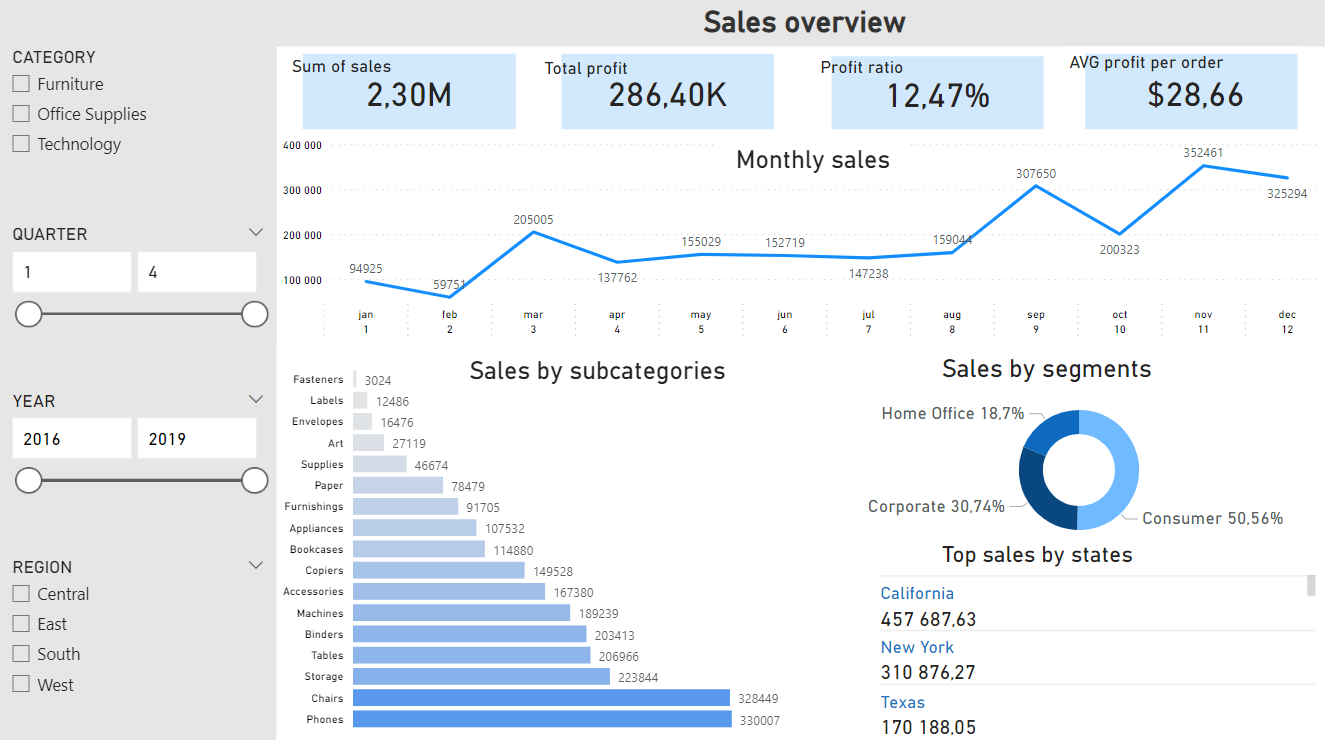

The page's visual inventory and layout, read from the dashboard file:
{"tool":"powerbi","page":{"name":"Sales overview","canvas":[1280,720],"ordinal":0},"visuals":[{"type":"card","fields":{"Values":["Sum(public sales_fact.profit)"]},"box":[543.3,57.2,204.6,73.1],"z":0,"group":"g2"},{"type":"card","fields":{"Values":["public sales_fact.avg_profit"]},"box":[1048.8,57.2,204.6,73.1],"z":0,"group":"g3"},{"type":"card","fields":{"Values":["Sum(public sales_fact.sales)"]},"box":[292.4,57.3,205.9,73.1],"z":0,"group":"g1"},{"type":"card","fields":{"Values":["public sales_fact.profit_ratio2"]},"box":[802.7,59.7,204.6,70.7],"z":0,"group":"g4"},{"type":"lineChart","fields":{"Y":["Sum(public sales_fact.sales)"],"Category":["public dim_date.month_","public dim_date.month_name"]},"box":[269.2,130.3,1011,210.7],"z":0,"group":"g5"},{"type":"clusteredBarChart","fields":{"Category":["public dim_products.subcategory"],"Y":["Sum(public sales_fact.sales)"]},"box":[268,341.1,506.7,378.8],"z":0,"group":"g6"},{"type":"slicer","fields":{"Values":["public dim_date.year_"]},"box":[0,376.3,267.7,160.4],"z":0},{"type":"multiRowCard","fields":{"Values":["public dim_geo.state","Sum(public sales_fact.sales)"]},"box":[845.4,555.5,430,164.4],"z":0,"group":"g7"},{"type":"textbox","box":[1028.1,50,188.8,34.1],"z":1000,"group":"g3"},{"type":"textbox","box":[277,53.3,116.9,36.5],"z":1000,"group":"g1"},{"type":"textbox","box":[787,54.8,115.7,32.9],"z":1000,"group":"g4"},{"type":"textbox","box":[521.5,56,115.7,34.1],"z":1000,"group":"g2"},{"type":"textbox","box":[691.6,139.5,188.8,45.9],"z":1000,"group":"g5"},{"type":"slicer","fields":{"Values":["public dim_date.quarter_"]},"box":[0,215.9,267.7,160.4],"z":1000},{"type":"textbox","box":[449.4,343.4,280.4,39],"z":1000,"group":"g6"},{"type":"textbox","box":[904.6,522.5,265.6,37.8],"z":1000,"group":"g7"},{"type":"textbox","box":[905.1,341.1,265.6,39],"z":2000},{"type":"textbox","box":[0,0,1279,49.9],"z":3000},{"type":"group","id":"g1","title":"Группа 1","box":[277,53.3,221.2,77],"z":4000},{"type":"slicer","fields":{"Values":["public dim_products.category"]},"box":[0,44.6,267.7,171.3],"z":5000},{"type":"slicer","fields":{"Values":["public dim_geo.region"]},"box":[0,536.7,267.7,183.3],"z":6000},{"type":"group","id":"g2","title":"Группа 1","box":[521.5,56,226.4,74.3],"z":7000},{"type":"group","id":"g3","title":"Группа 1","box":[1028.1,50,225.4,80.3],"z":8000},{"type":"group","id":"g4","title":"Группа 1","box":[787,54.8,220.3,75.6],"z":9000},{"type":"group","id":"g5","title":"Группа 2","box":[269.2,130.3,1011,210.7],"z":10000},{"type":"group","id":"g6","title":"Группа 3","box":[268,341.1,506.7,378.8],"z":11000},{"type":"donutChart","fields":{"Category":["public dim_customers.segment"],"Y":["Sum(public sales_fact.sales)"]},"box":[802.7,380.1,477.5,157.1],"z":12000},{"type":"group","id":"g7","title":"Группа 4","box":[845.4,522.5,430,197.4],"z":13000}]}

Visuals, with their boxes in screenshot pixels (x1, y1, x2, y2), scaled from the page's 1280x720 canvas onto the 1325x740 screenshot:
card - Sum(public sales_fact.profit): 562 59 774 134
card - public sales_fact.avg_profit: 1086 59 1297 134
card - Sum(public sales_fact.sales): 303 59 516 134
card - public sales_fact.profit_ratio2: 831 61 1043 134
lineChart - Sum(public sales_fact.sales) x public dim_date.month_: 279 134 1324 350
clusteredBarChart - public dim_products.subcategory x Sum(public sales_fact.sales): 277 351 802 739
slicer - public dim_date.year_: 0 387 277 552
multiRowCard - public dim_geo.state x Sum(public sales_fact.sales): 875 571 1320 739
textbox: 1064 51 1260 86
textbox: 287 55 408 92
textbox: 815 56 934 90
textbox: 540 58 660 93
textbox: 716 143 911 191
slicer - public dim_date.quarter_: 0 222 277 387
textbox: 465 353 755 393
textbox: 936 537 1211 576
textbox: 937 351 1212 391
textbox: 0 0 1324 51
"Группа 1" group: 287 55 516 134
slicer - public dim_products.category: 0 46 277 222
slicer - public dim_geo.region: 0 552 277 739
"Группа 1" group: 540 58 774 134
"Группа 1" group: 1064 51 1298 134
"Группа 1" group: 815 56 1043 134
"Группа 2" group: 279 134 1324 350
"Группа 3" group: 277 351 802 739
donutChart - public dim_customers.segment x Sum(public sales_fact.sales): 831 391 1324 552
"Группа 4" group: 875 537 1320 739
